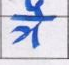ai_matra: (26, 0, 47, 16)
